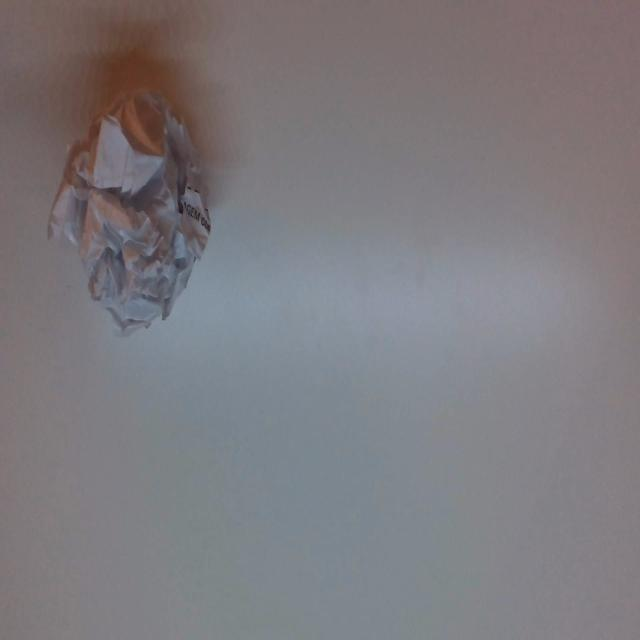Paper: (50, 83, 211, 326)
